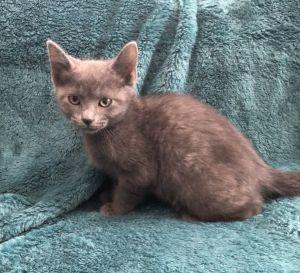rblue: (42, 28, 147, 144)
